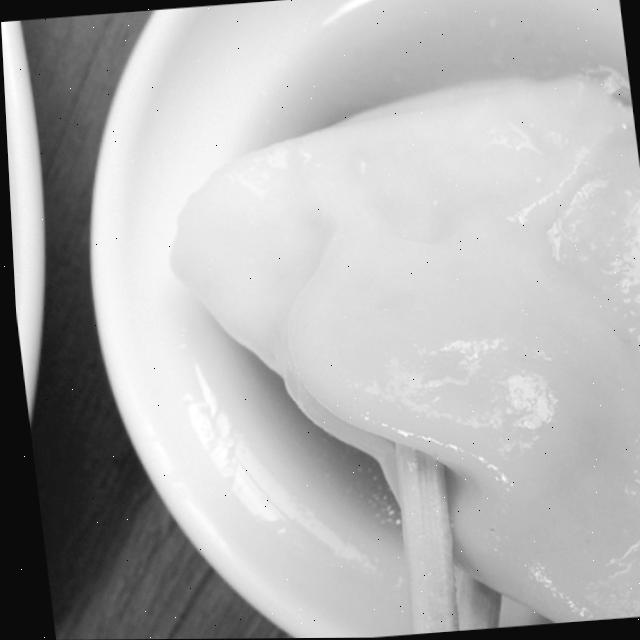带馅早点: (84, 0, 640, 640)
